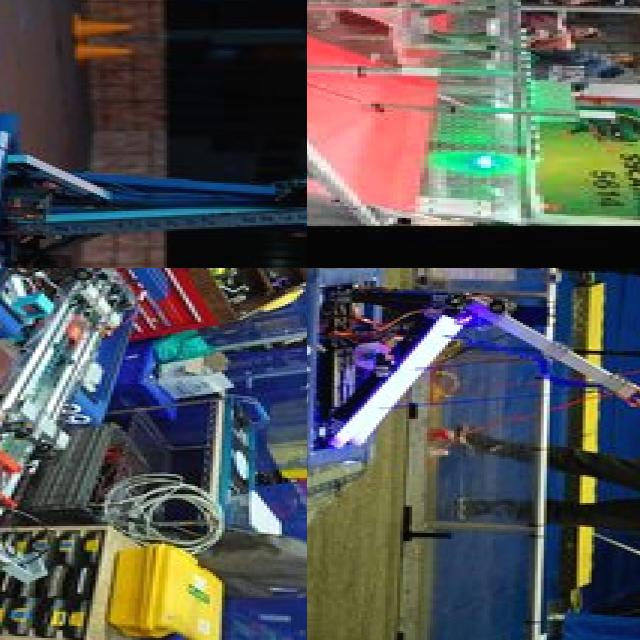FRC-Robots: (307, 268, 640, 640), (0, 268, 179, 601), (0, 112, 307, 268), (307, 588, 639, 640)
